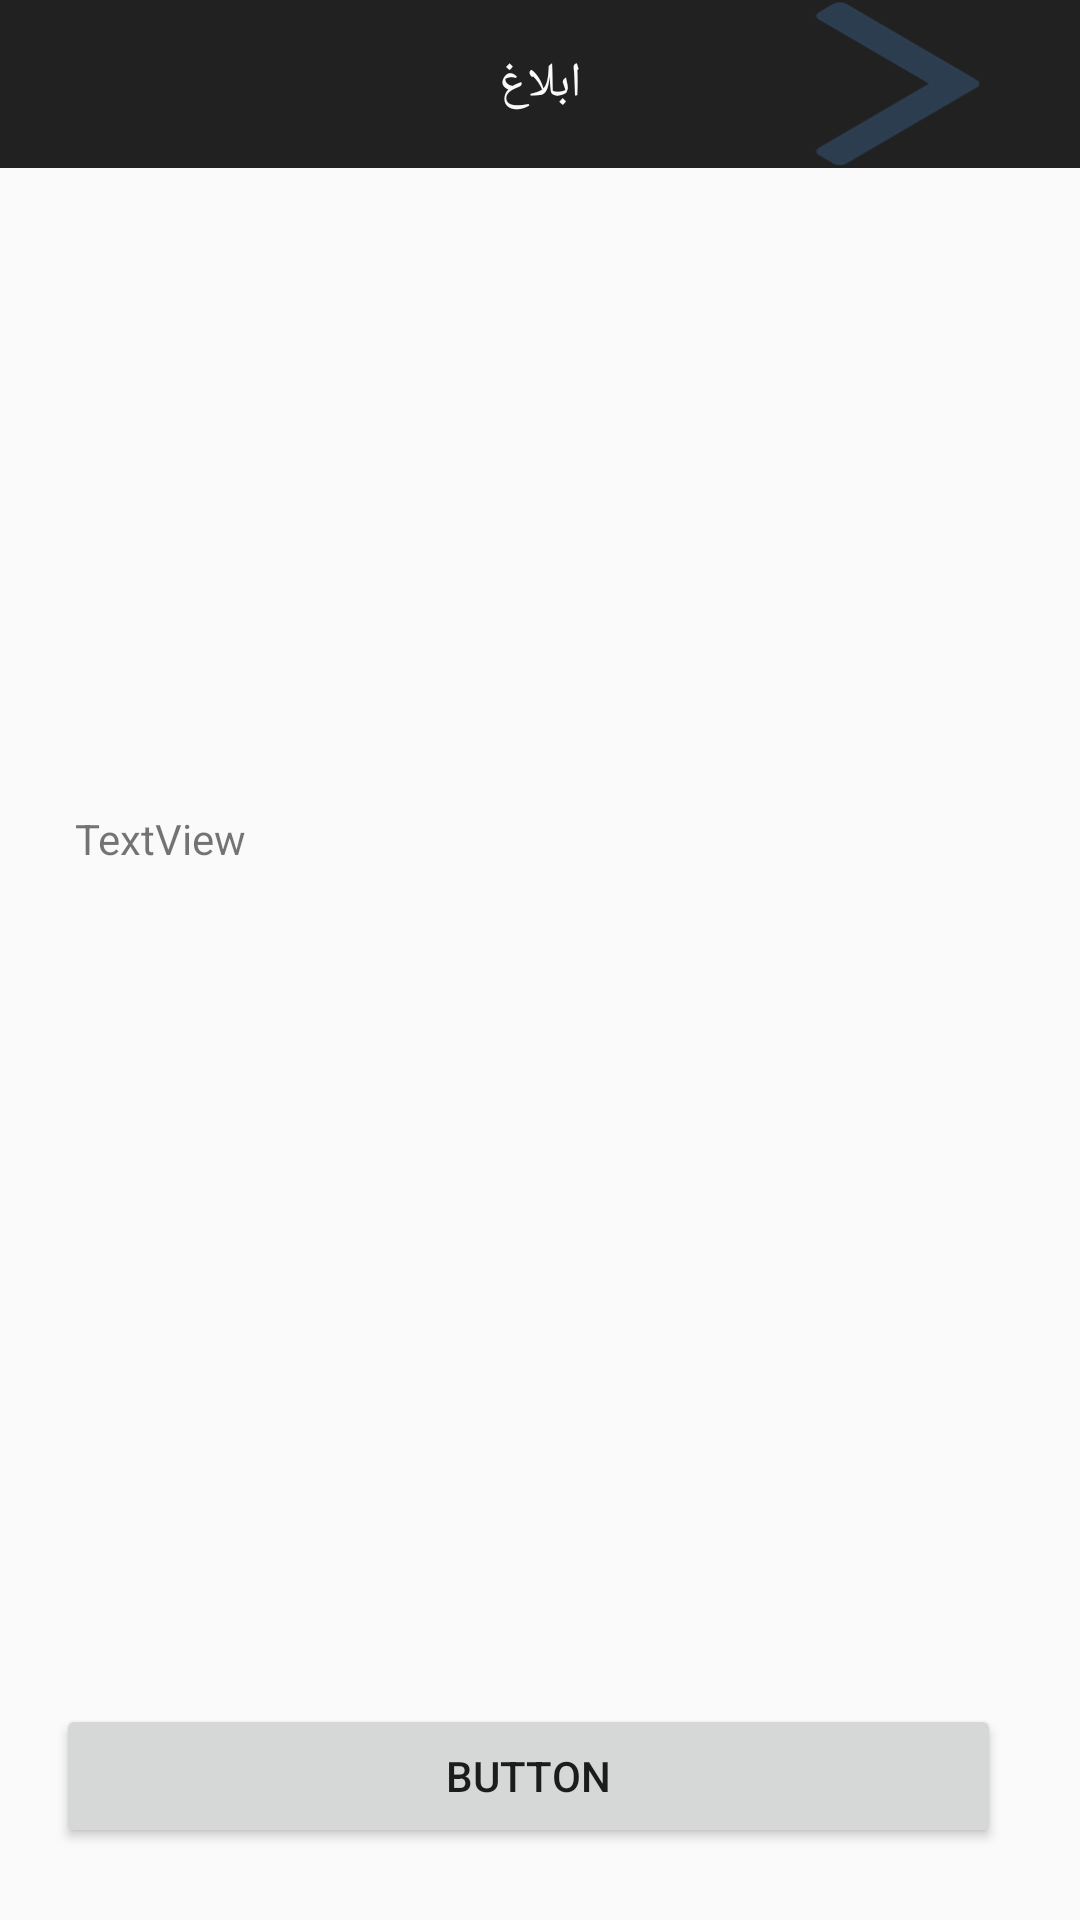

Where to tap for icons on this 1080w x 1920h app screen, as point (x, y):
dropright: point (897, 83)
